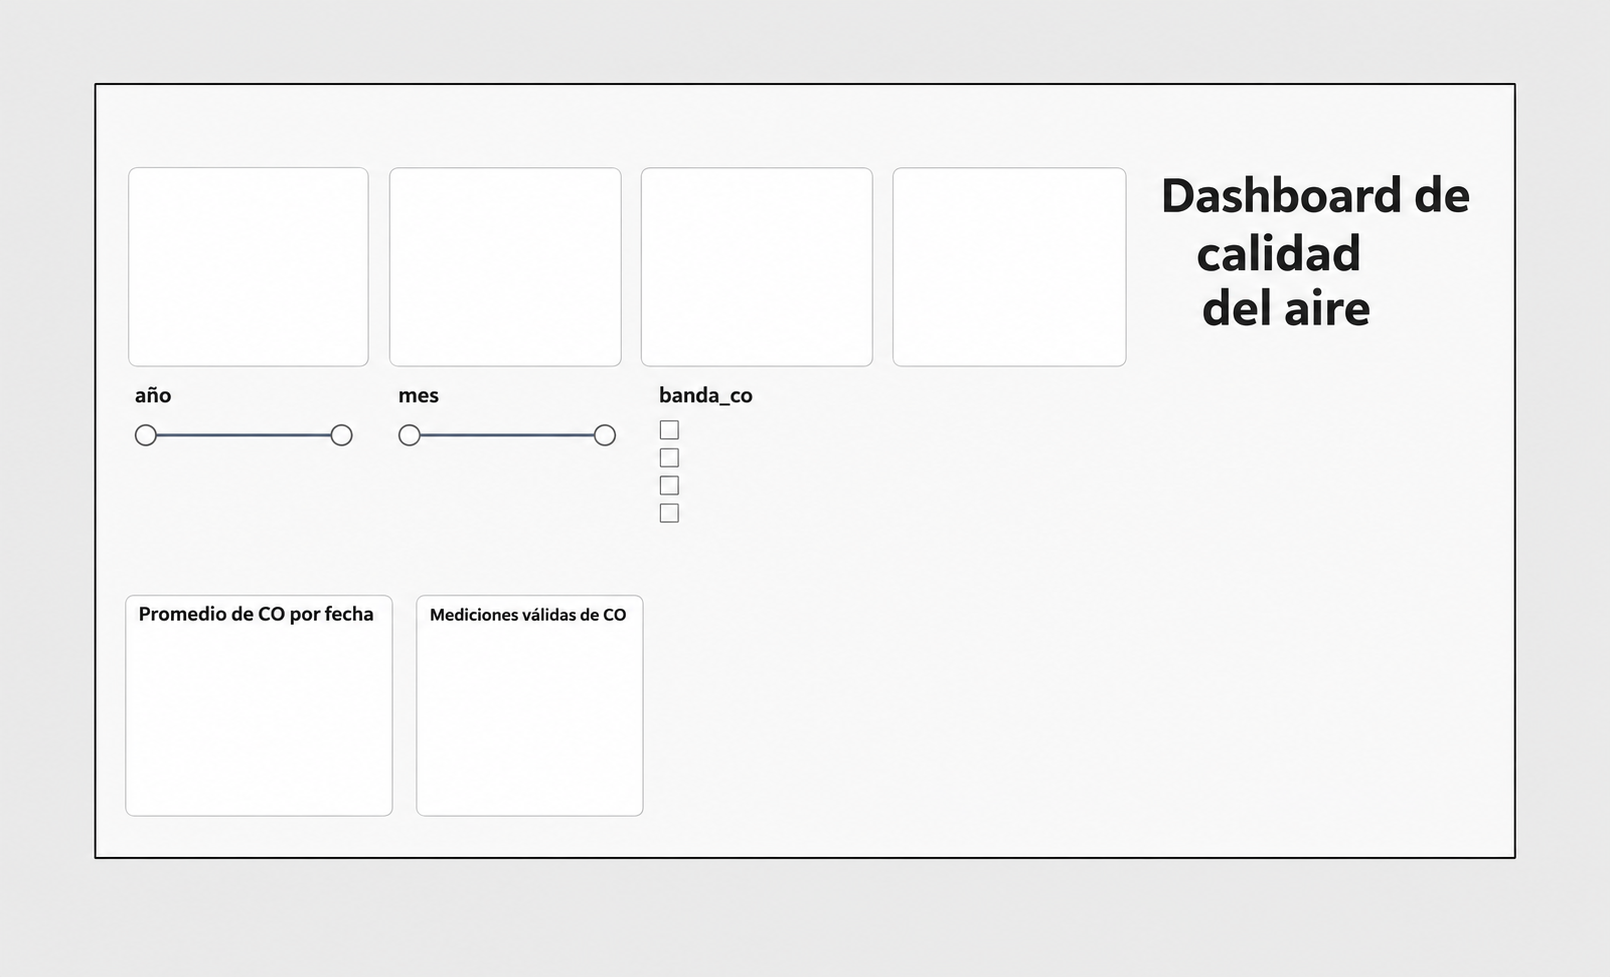

The dashboard page shown, as its layout file describes it:
{"tool":"powerbi","page":{"name":"Página 1","canvas":[1920,1080],"ordinal":0},"visuals":[{"type":"cardVisual","fields":{"Data":["Avg(hecho_calidad_aire.co_gt)"]},"box":[425.1,120.9,300,300],"z":0},{"type":"cardVisual","fields":{"Data":["Avg(hecho_calidad_aire.no2_gt)"]},"box":[74.7,120.9,300,300],"z":1000},{"type":"clusteredColumnChart","fields":{"Category":["hecho_calidad_aire.banda_co"],"Y":["CountNonNull(hecho_calidad_aire.banda_co)"]},"box":[758.7,120.9,300,300],"z":2000},{"type":"scatterChart","fields":{"Category":["hecho_calidad_aire.medicion_id"],"X":["Sum(hecho_calidad_aire.co_gt)"],"Y":["Sum(hecho_calidad_aire.pt08_s1_co)"]},"box":[1088,120,300,300],"z":3000},{"type":"slicer","fields":{"Values":["dim_tiempo.anio"]},"box":[74,432,300,300],"z":4000},{"type":"slicer","fields":{"Values":["dim_tiempo.mes"]},"box":[425,431,300,300],"z":5000},{"type":"slicer","fields":{"Values":["hecho_calidad_aire.banda_co"]},"box":[788.2,461.2,300,300],"z":6000},{"type":"textbox","box":[1398,120,300,300],"z":7000}]}

Visuals, with their boxes on the page's 1920x1080 design canvas (x1, y1, x2, y2). These are canvas units, not pixel positions in the 1610x977 screenshot, which may show the page scaled, cropped or inside an application window:
cardVisual - Avg(hecho_calidad_aire.co_gt): <region>425, 121, 725, 421</region>
cardVisual - Avg(hecho_calidad_aire.no2_gt): <region>75, 121, 375, 421</region>
clusteredColumnChart - hecho_calidad_aire.banda_co x CountNonNull(hecho_calidad_aire.banda_co): <region>759, 121, 1059, 421</region>
scatterChart - hecho_calidad_aire.medicion_id x Sum(hecho_calidad_aire.co_gt): <region>1088, 120, 1388, 420</region>
slicer - dim_tiempo.anio: <region>74, 432, 374, 732</region>
slicer - dim_tiempo.mes: <region>425, 431, 725, 731</region>
slicer - hecho_calidad_aire.banda_co: <region>788, 461, 1088, 761</region>
textbox: <region>1398, 120, 1698, 420</region>
